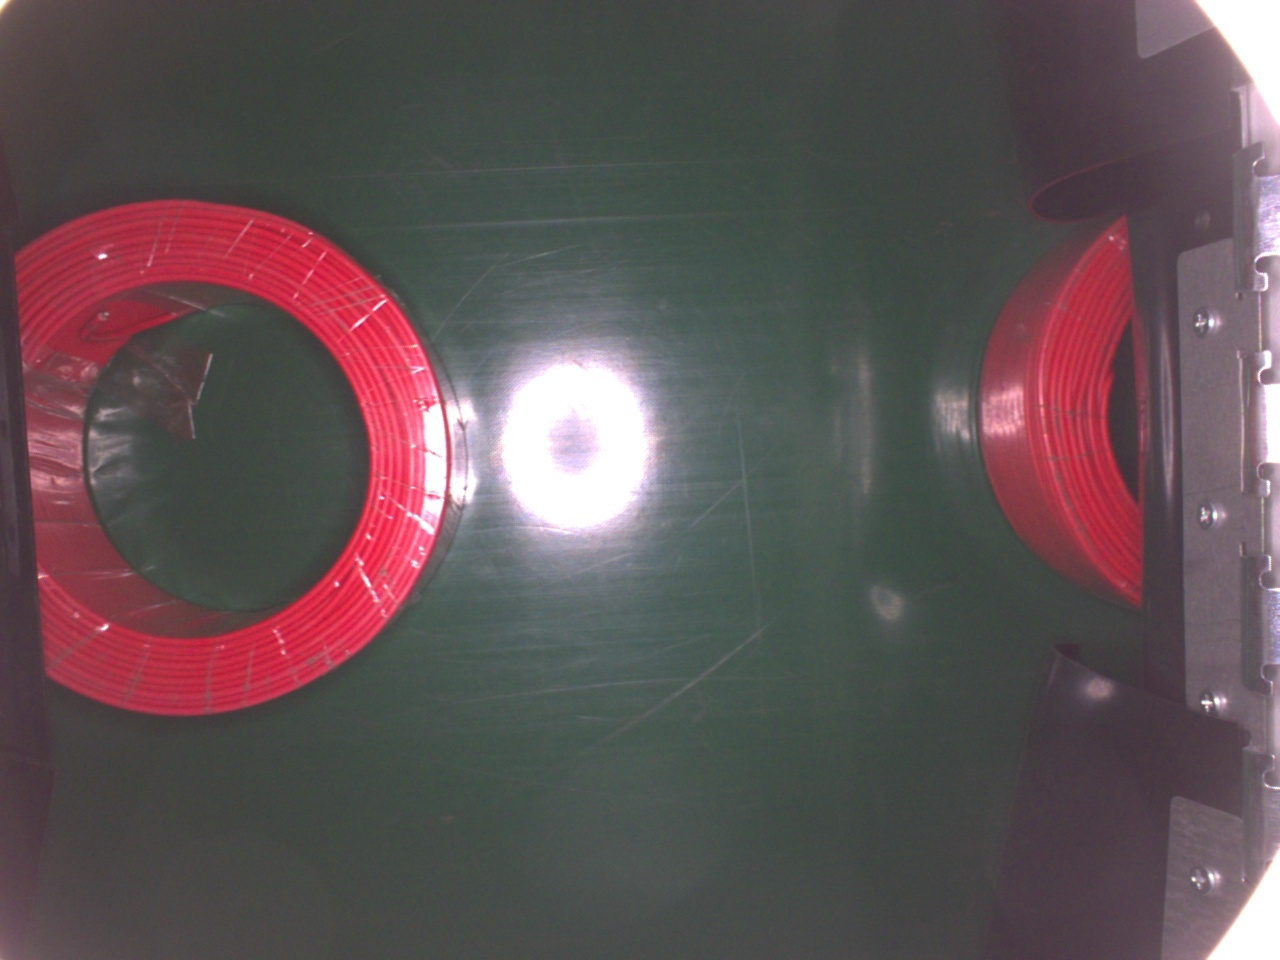red: (8, 192, 466, 716), (976, 206, 1143, 609)
